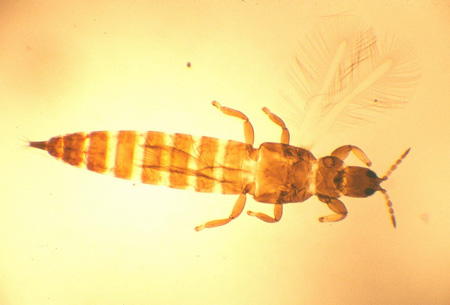Phlaeothripidae: (24, 21, 427, 234)
